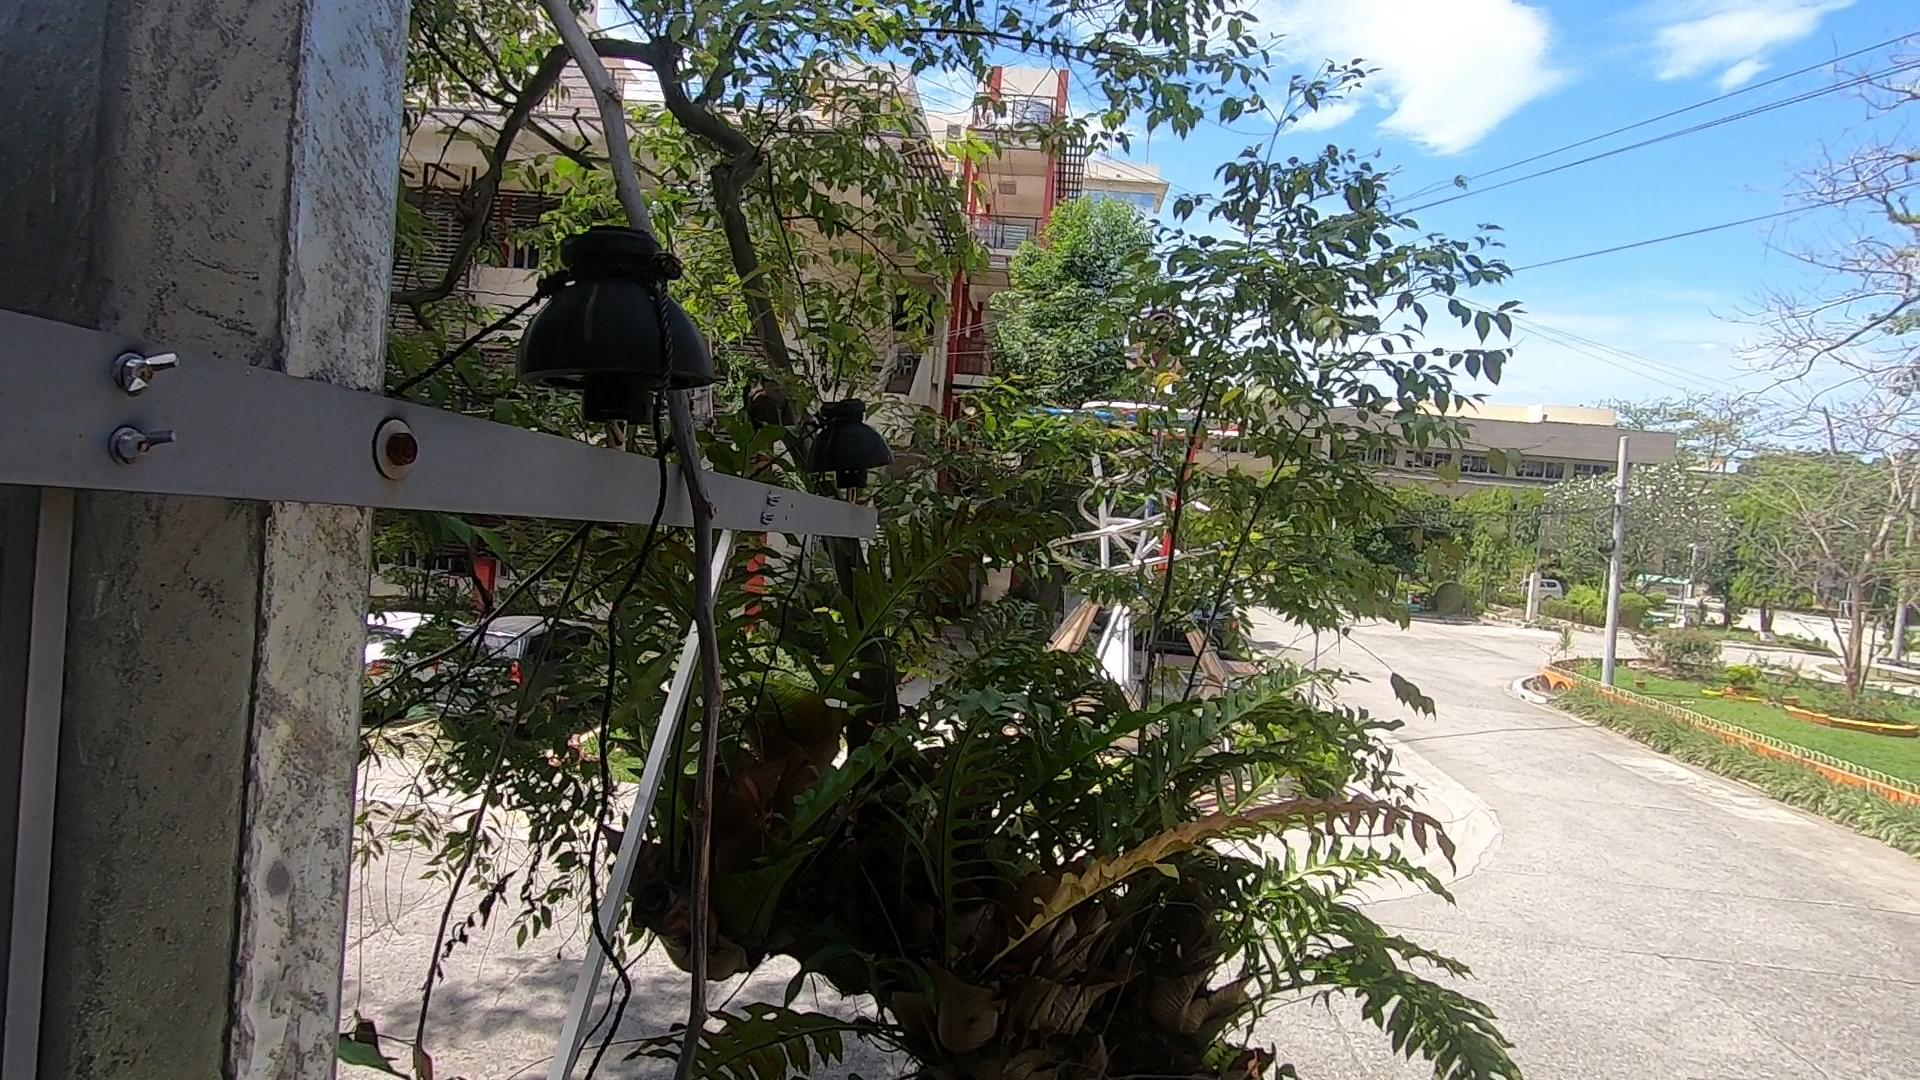tree branch: (473, 9, 876, 1071)
